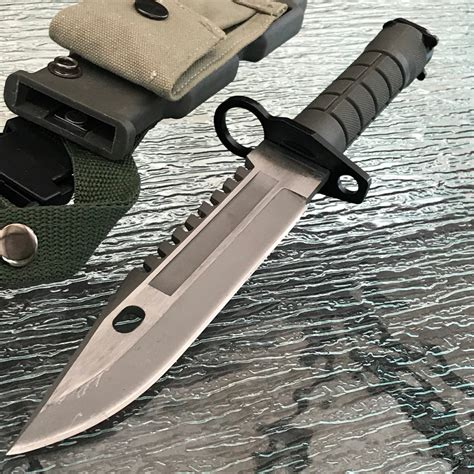knife: (7, 13, 437, 456)
